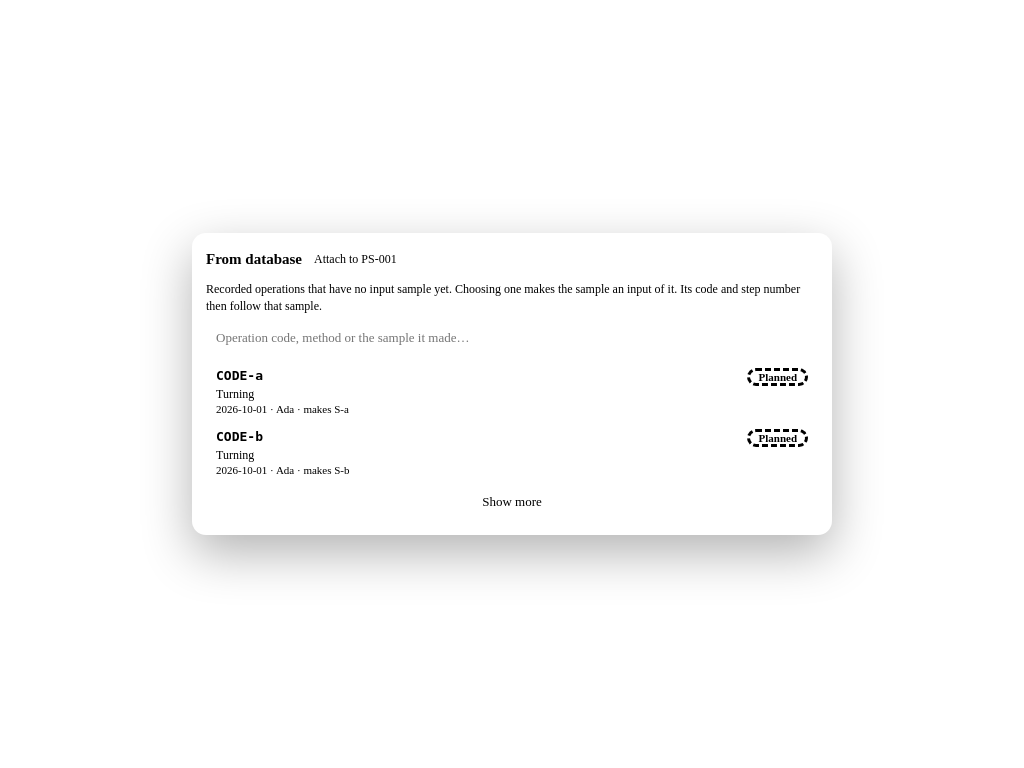
the From database picker › Show more reads the next page and adds it below
Click the button with class "more": click(512, 502) [468,489,556,515]
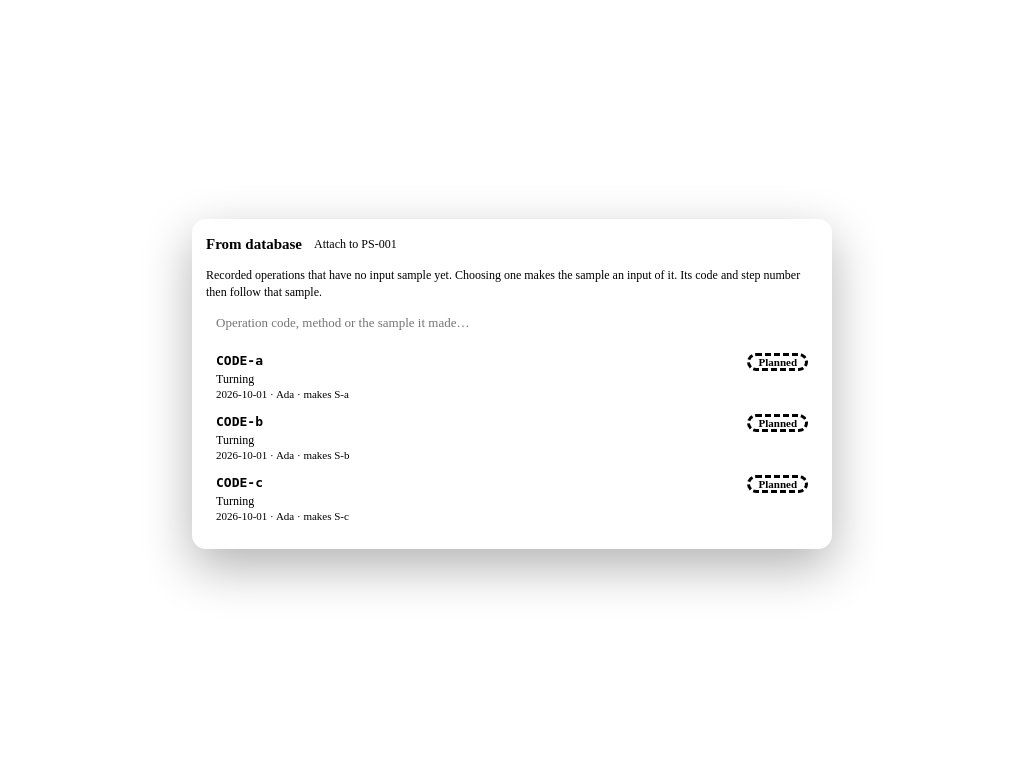
expect the button with class "more" is gone: met
